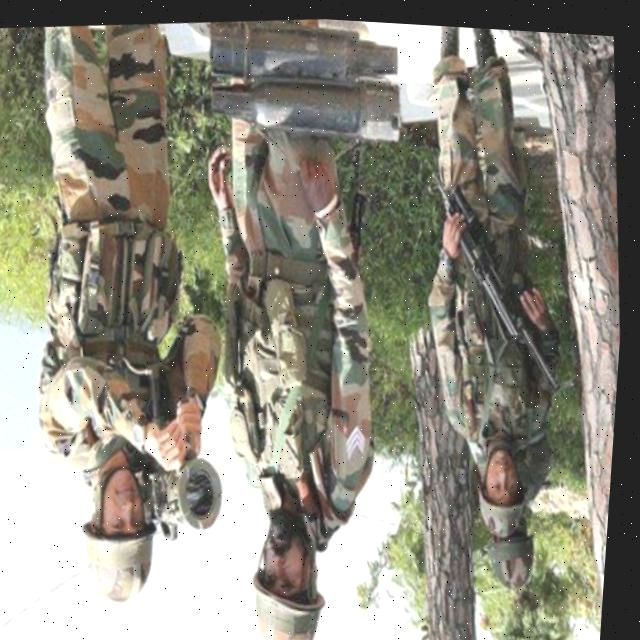rocket: (194, 9, 412, 169)
